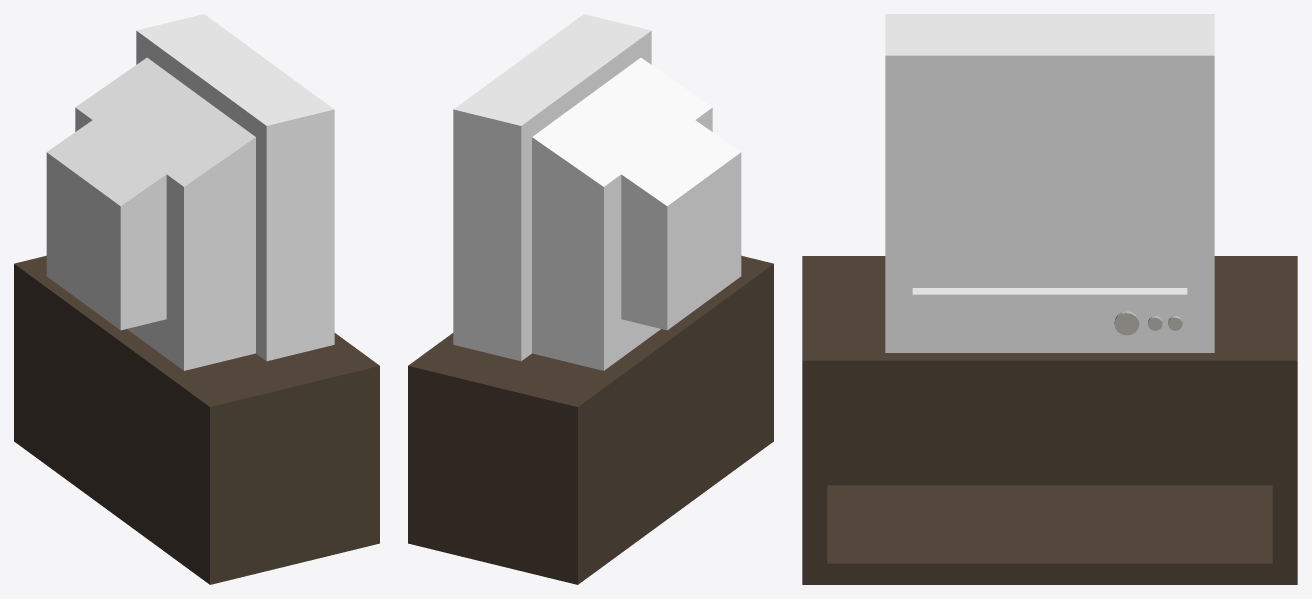
3 views of the same model, side by side, from view 1: azimuth 30°, elevation 25°; view 2: azimuth 150°, elevation 25°; view 3: azimuth 270°, elevation 25° (orthographic). The views are drawn at different scales.
Parts seen in each view (by area): view 1: Buttons; view 2: Buttons; view 3: Buttons.
Boxes of the visible parts, <box> form: Buttons: <box>14,14,379,584</box>; Buttons: <box>408,14,773,584</box>; Buttons: <box>802,14,1297,584</box>.
Bounding box in the file's own units: 233 × 465 × 400.
